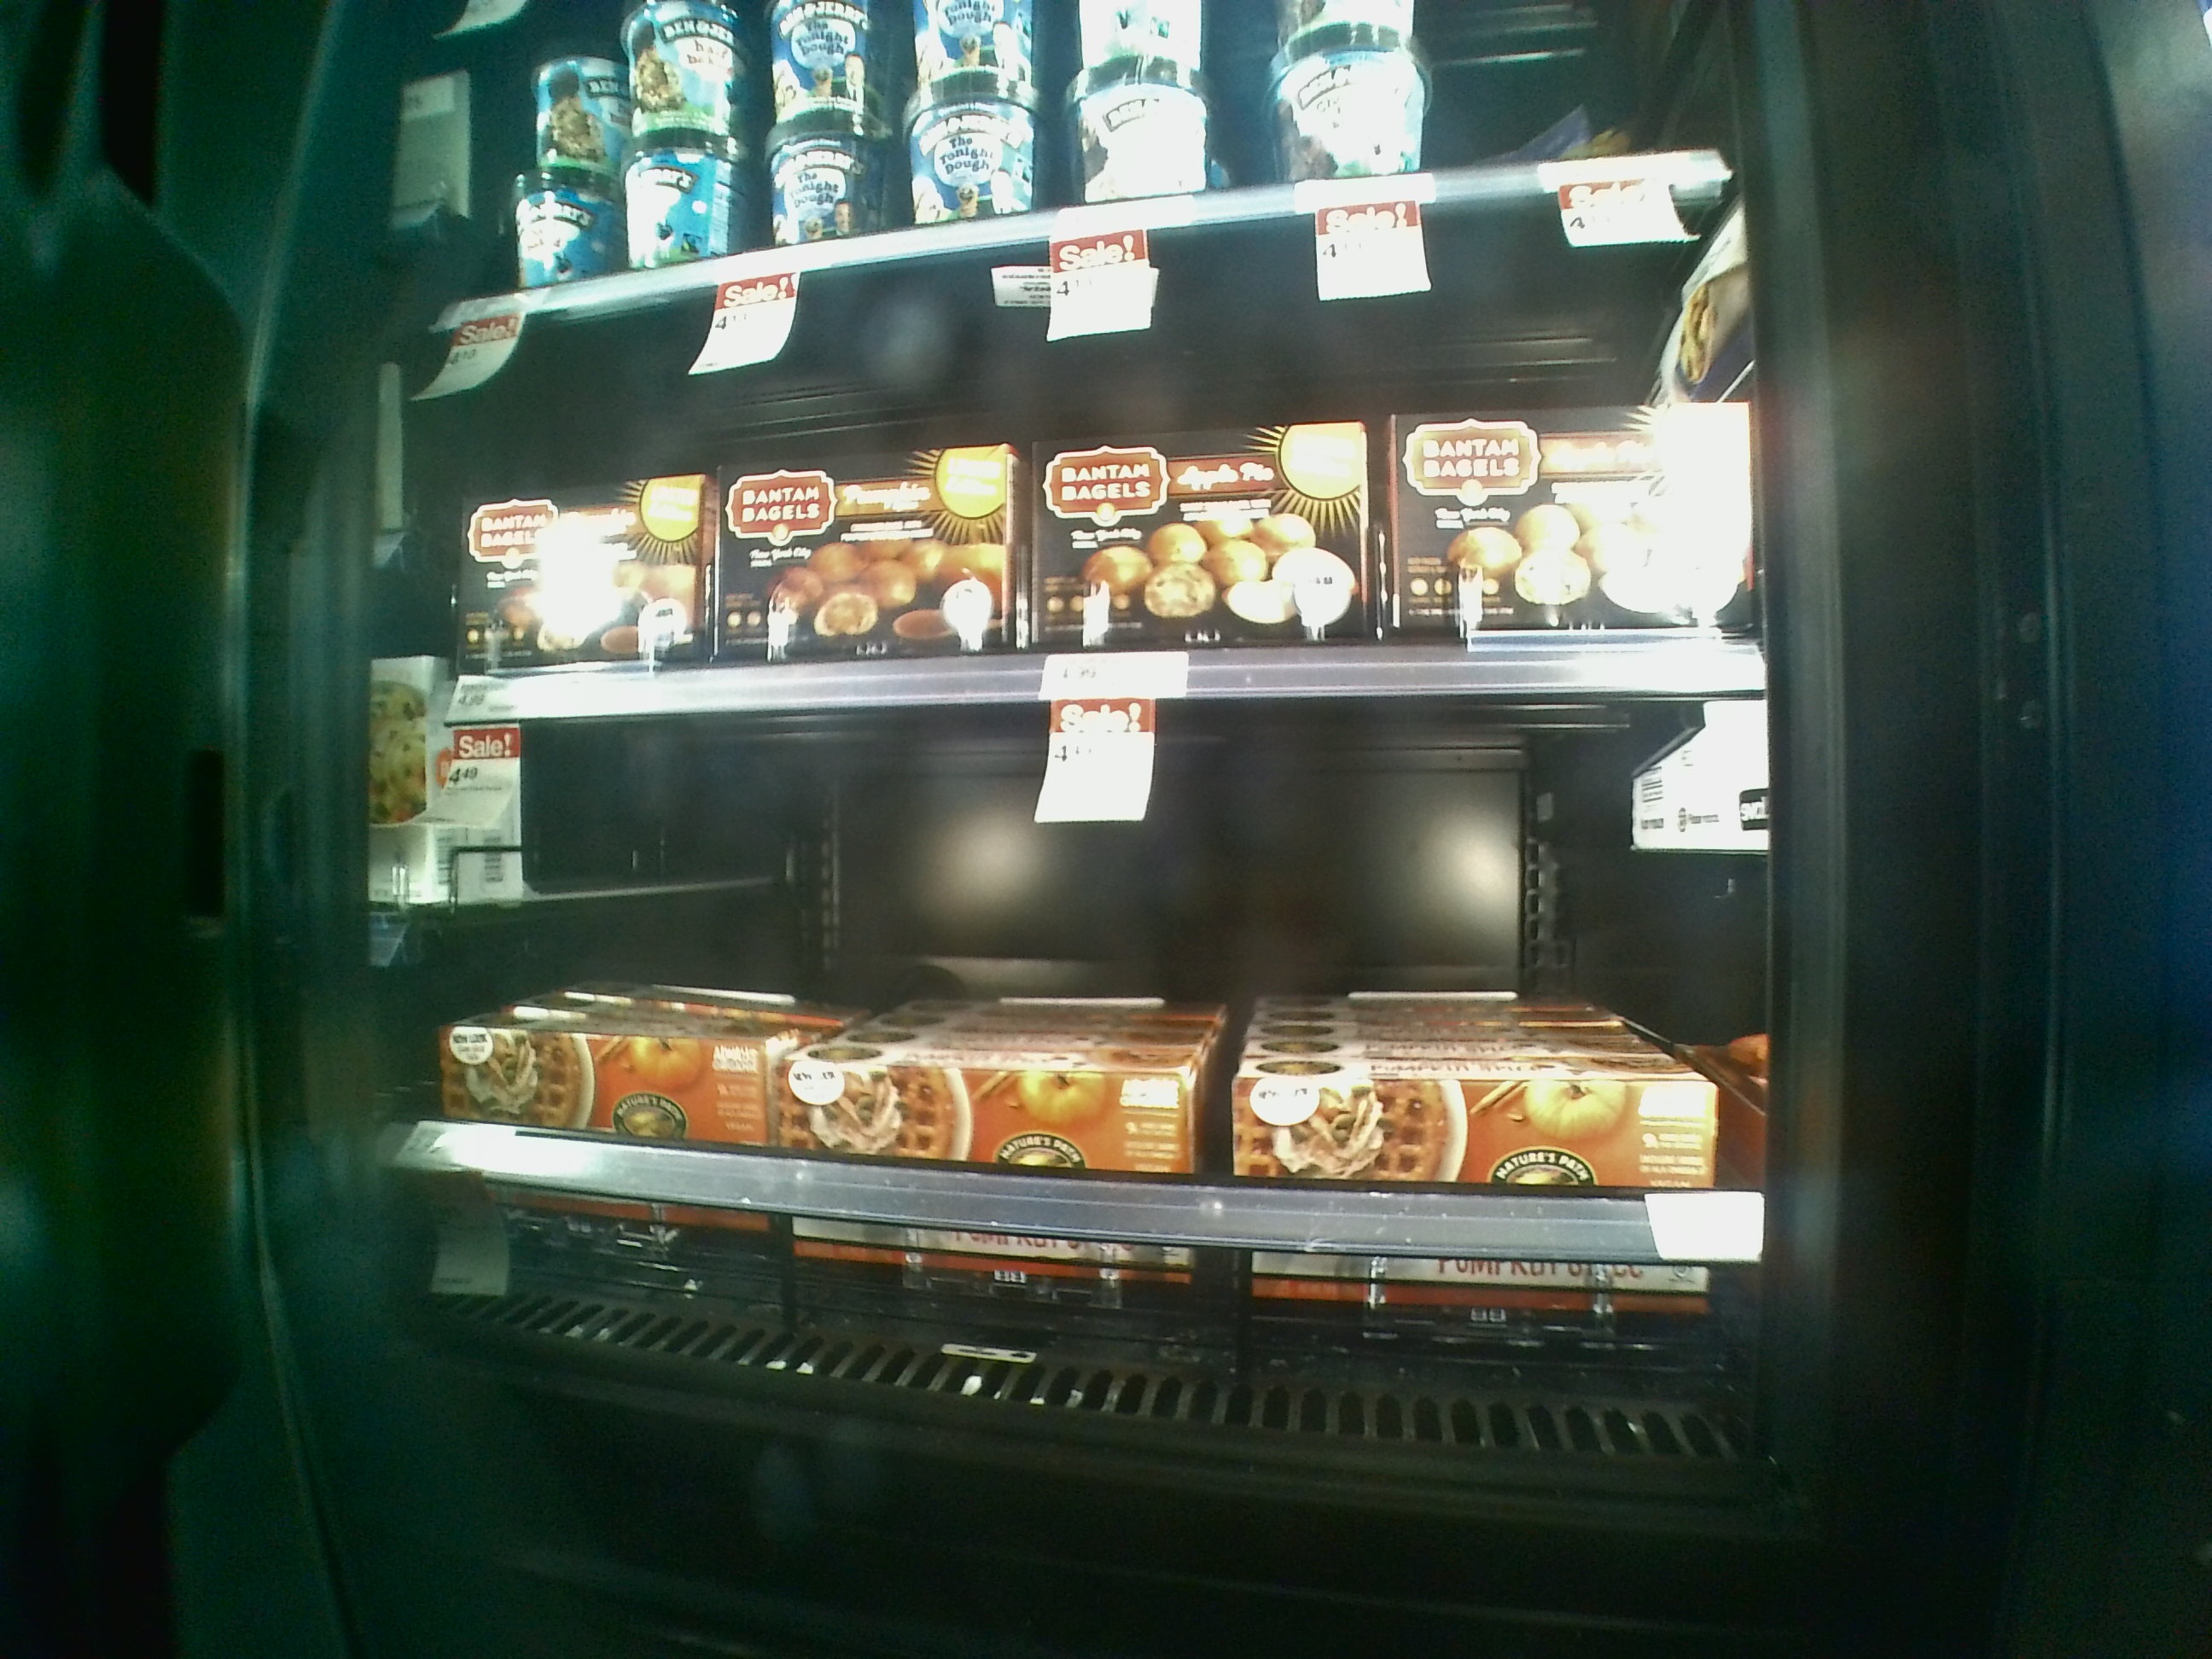shelf: (361, 704, 1759, 1455), (380, 310, 1770, 704)
